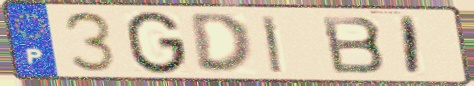3: (62, 9, 119, 75)
B: (318, 14, 389, 76)
D: (186, 11, 256, 76)
G: (124, 10, 189, 77)
I: (259, 14, 285, 75), (399, 14, 422, 77)
